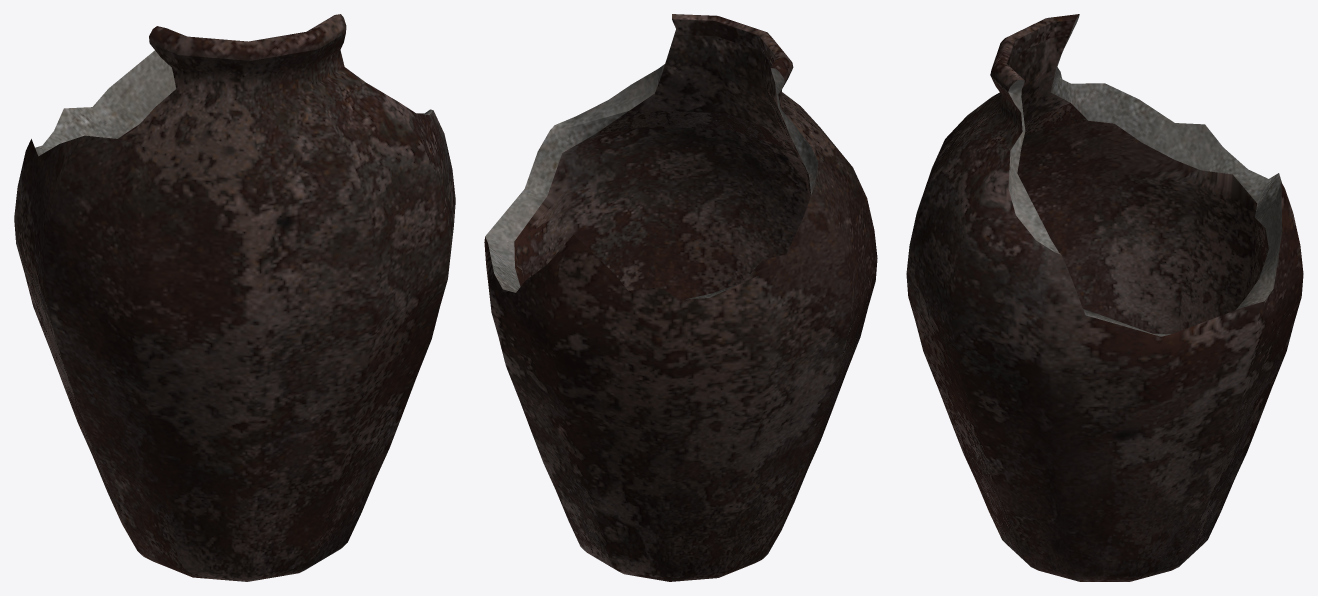
Rendered from potterydestroy_1.fbx.
3 renders of one model, left to right at view 1: azimuth 30°, elevation 25°; view 2: azimuth 150°, elevation 25°; view 3: azimuth 270°, elevation 25°, orthographic. The views are drawn at different scales.
Visible parts, largest first — view 1: pottery.dest1; view 2: pottery.dest1; view 3: pottery.dest1.
Boxes of the visible parts, x1,y1,x2,y2 form: pottery.dest1: [14, 14, 455, 581]; pottery.dest1: [484, 14, 877, 581]; pottery.dest1: [906, 14, 1303, 581].
Bounding box in the file's own units: 57.23 × 78.82 × 57.81.
